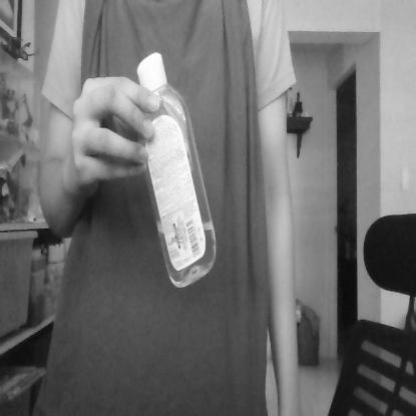Plastic Bottle: (130, 34, 222, 309)
